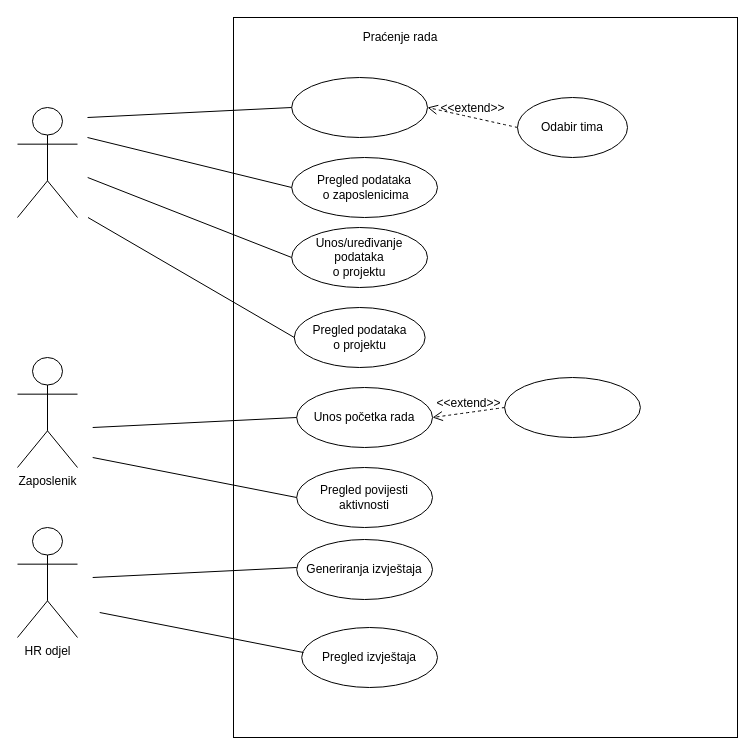
The diagram is 755 pixels wide and 755 high, and some of its shapes have lost their labels. The centre of each missing label's shape, as x and y in pixels:
Menadžer: pixel 47 162
Unos kraja rada: pixel 572 407
Unos/uređivanje podataka o zaposleniku: pixel 359 107
